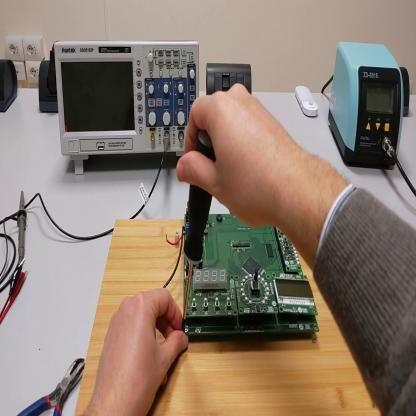hand: (180, 83, 296, 234), (88, 286, 191, 416)
low voltage board: (166, 212, 321, 340)
oscilloscope: (53, 43, 201, 176)
oscilloscope probe tip: (17, 189, 29, 264)
pliers: (17, 358, 86, 414)
screwdriver-: (182, 130, 217, 332)
socket: (40, 58, 60, 116), (1, 61, 19, 115), (400, 65, 410, 117)
welder station: (328, 41, 405, 169)
working area: (76, 221, 371, 414)
